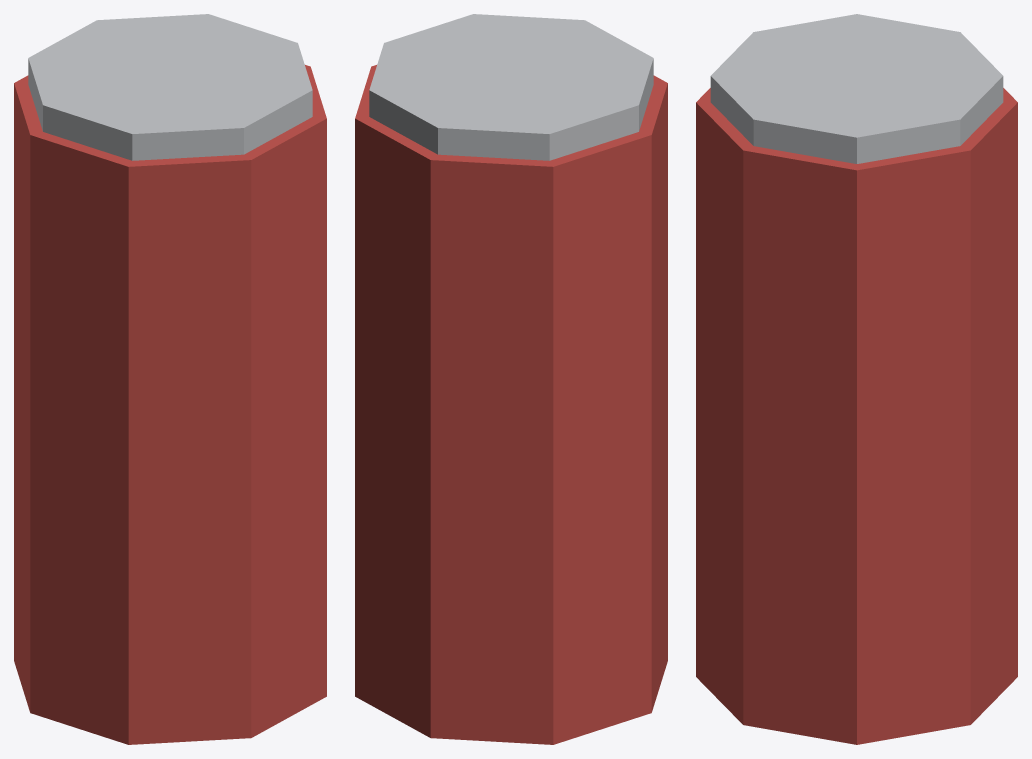
Rendered from Esya_Kola.glb.
3 renders of one model, left to right at view 1: azimuth 30°, elevation 25°; view 2: azimuth 150°, elevation 25°; view 3: azimuth 270°, elevation 25°, orthographic.
Visible parts, largest first — view 1: Esya_Kola; view 2: Esya_Kola; view 3: Esya_Kola.
Part boxes in pixels (left/top/right/bottom): Esya_Kola: left=14, top=14, right=326, bottom=744; Esya_Kola: left=355, top=14, right=667, bottom=744; Esya_Kola: left=696, top=14, right=1017, bottom=744.
Size of the model in its own units: 0.066 by 0.136 by 0.066.
